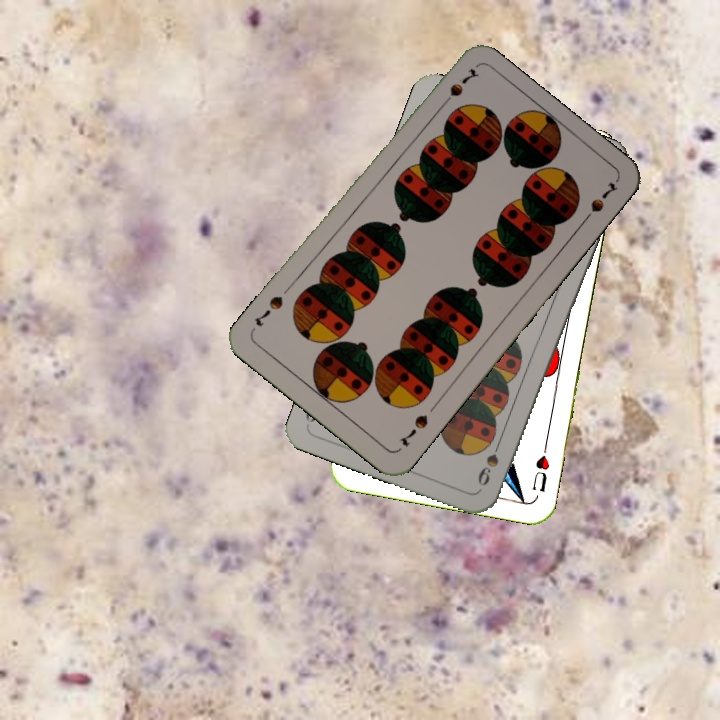HU: (528, 440, 552, 495)
S7: (434, 64, 480, 113), (395, 410, 431, 449)
S9: (473, 433, 505, 489)
